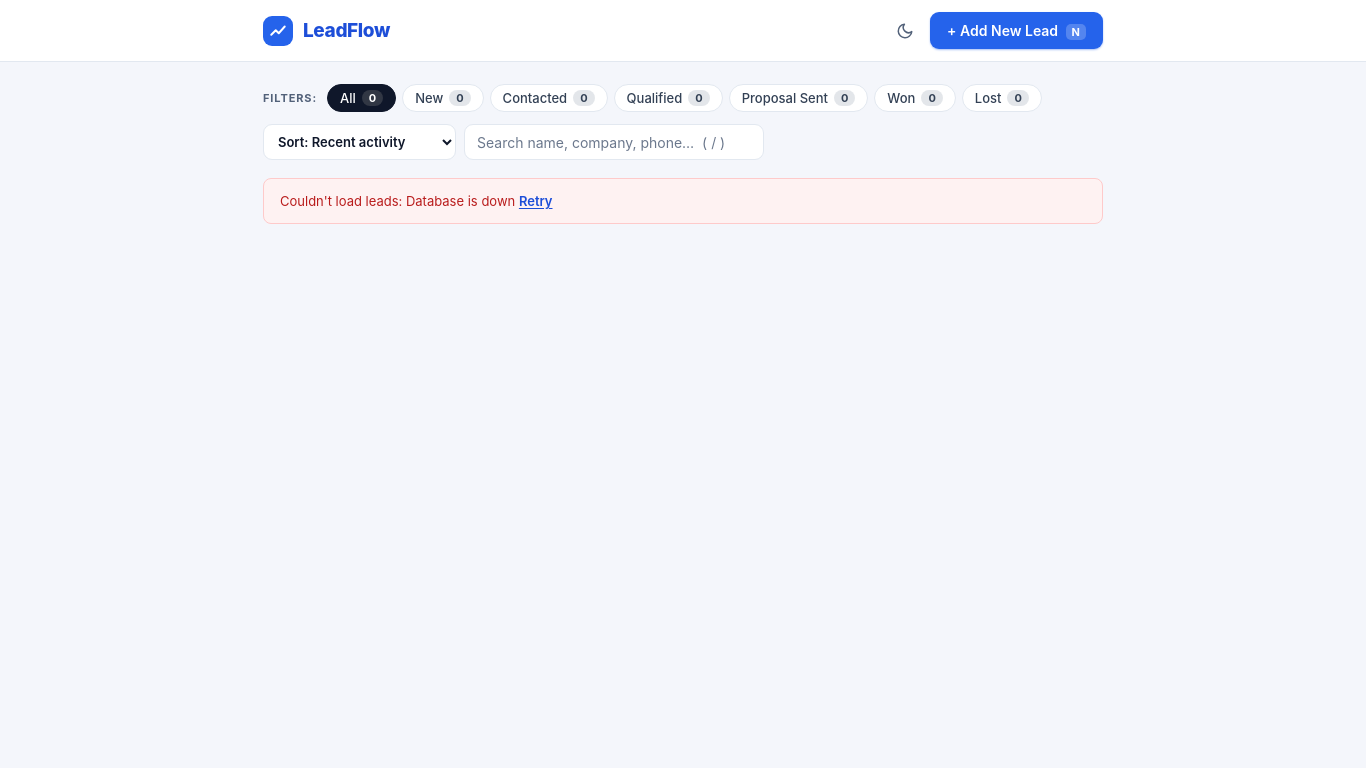
lead list › shows an error with retry when the list cannot load
expect the text "Couldn't load leads: Database is down Retry" is shown: met, box [263,178,1103,224]
Click the button "Retry".
click(536, 201)  # box [519,193,552,209]
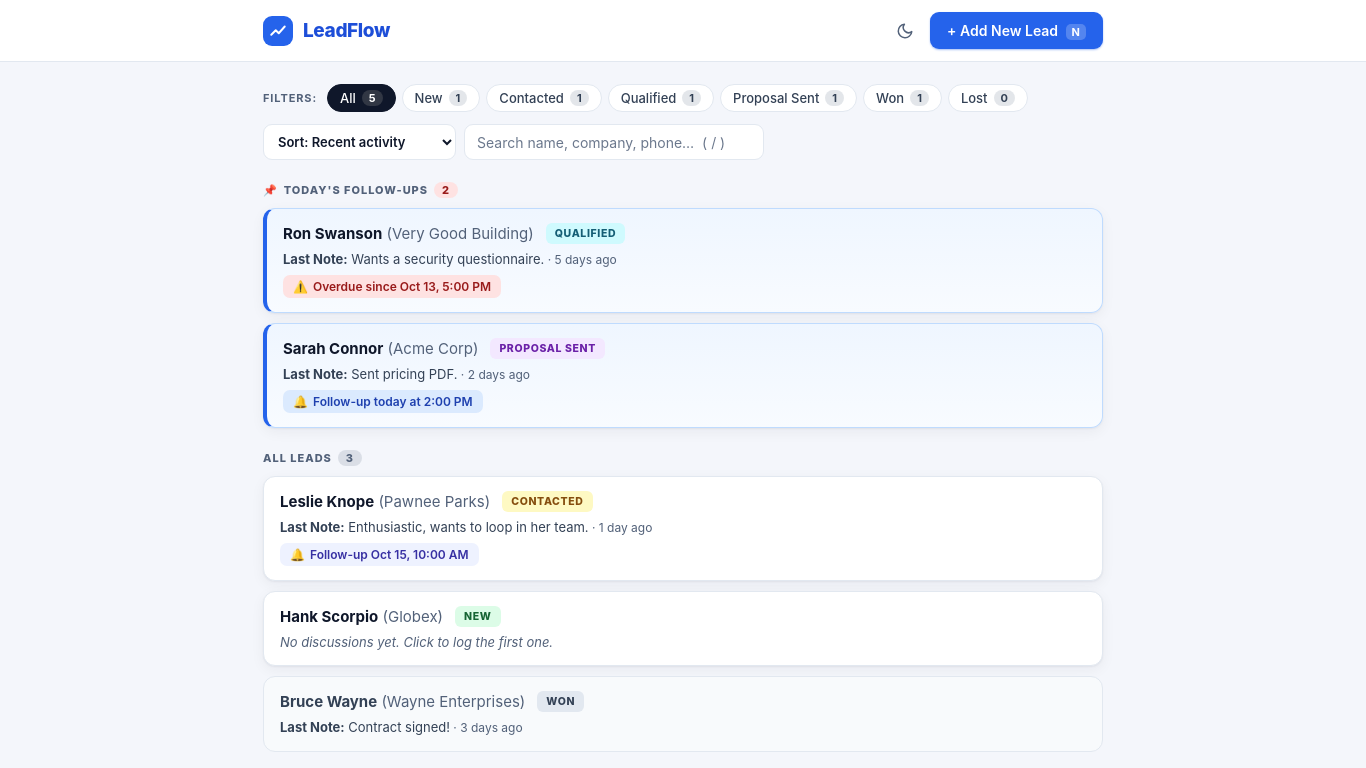
expect the text "Sarah Connor" is shown: met, box [283,339,383,358]
